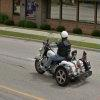Motorcycle: (28, 30, 92, 90)
